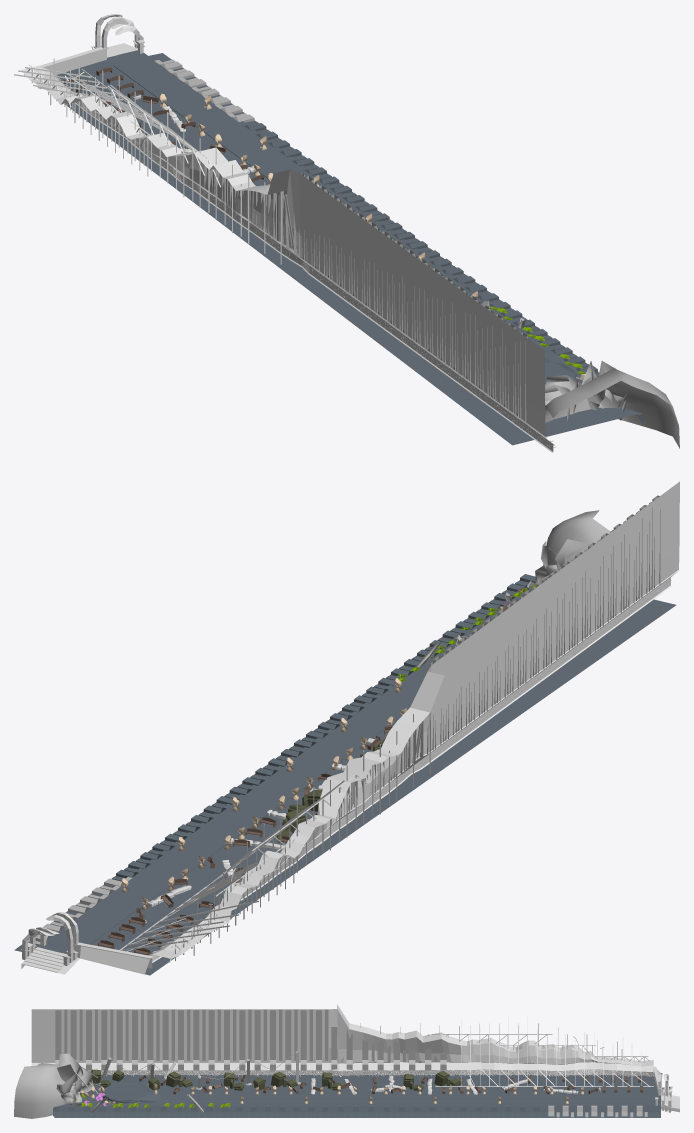
Rendered from temple.fbx.
The picture shows the model from 3 angles, top to bottom: view 1: azimuth 30°, elevation 25°; view 2: azimuth 150°, elevation 25°; view 3: azimuth 270°, elevation 25°; orthographic projection. The views are drawn at different scales.
Visible parts, largest first — view 1: bench.323, bench.223, bench.454, bench.453, Cube.206; view 2: bench.323, bench.223, bench.453, Cube.206, bench.454, Cube.210; view 3: bench.323, bench.223, bench.453, bench.454, bench.330, bench.331, bench.333, bench.352, bench.325, bench.328, bench.334, bench.351 (+35 smaller).
Part boxes in pixels (x1,y1,x2,y2): bench.323: [21, 65, 553, 452]; bench.223: [56, 50, 639, 445]; bench.454: [545, 368, 679, 448]; bench.453: [113, 60, 579, 384]; Cube.206: [40, 16, 144, 74]; bench.323: [149, 481, 679, 962]; bench.223: [14, 580, 676, 975]; bench.453: [61, 613, 497, 944]; Cube.206: [39, 912, 153, 974]; bench.454: [543, 510, 610, 569]; Cube.210: [21, 947, 79, 974]; bench.323: [31, 1004, 653, 1076]; bench.223: [54, 1073, 662, 1117]; bench.453: [103, 1082, 648, 1104]; bench.454: [14, 1063, 76, 1118]; bench.330: [193, 1010, 199, 1070]; bench.331: [208, 1010, 214, 1070]; bench.333: [239, 1010, 245, 1070]; bench.352: [300, 1010, 306, 1070]; bench.325: [116, 1010, 122, 1070]; bench.328: [162, 1010, 168, 1070]; bench.334: [254, 1010, 260, 1070]; bench.351: [285, 1010, 291, 1070].
Size of the model in its own units: 4232 by 2585 by 21709.
